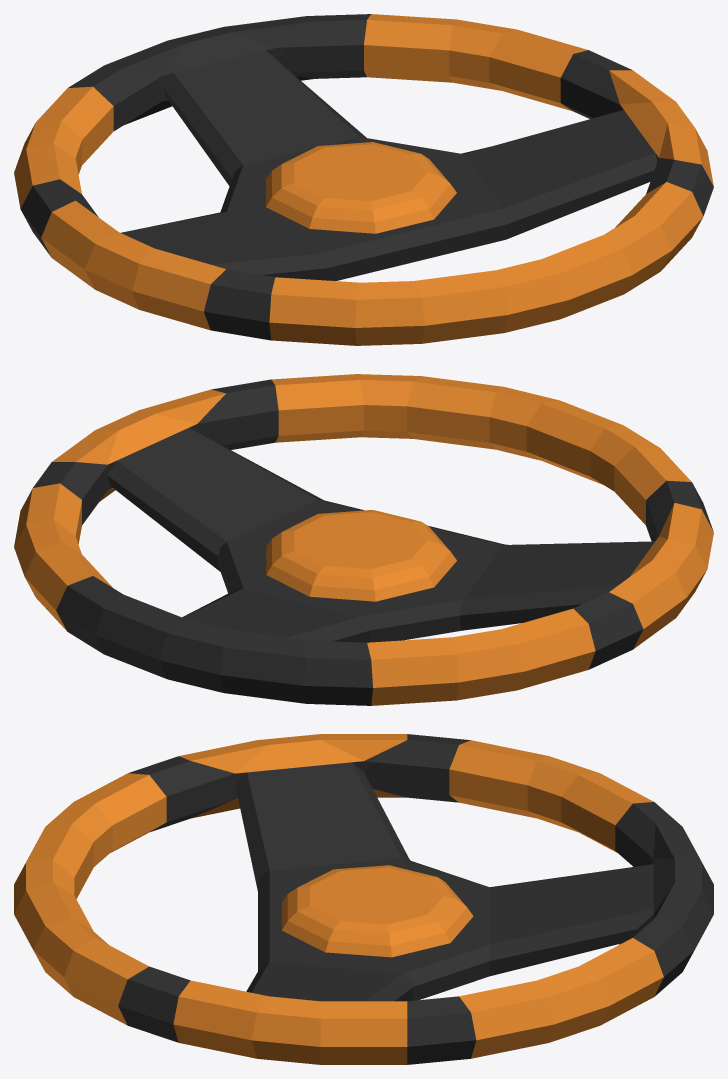
File: direksyonV2.fbx
3 renders of one model, top to bottom at view 1: azimuth 30°, elevation 25°; view 2: azimuth 150°, elevation 25°; view 3: azimuth 270°, elevation 25°, orthographic.
Parts seen in each view (by area): view 1: Torus; view 2: Torus; view 3: Torus.
Part boxes in pixels (x1,y1,x2,y2): Torus: (14, 14, 713, 345); Torus: (14, 374, 713, 705); Torus: (14, 734, 713, 1064).
Bounding box in the file's own units: 214 × 25.96 × 214.
